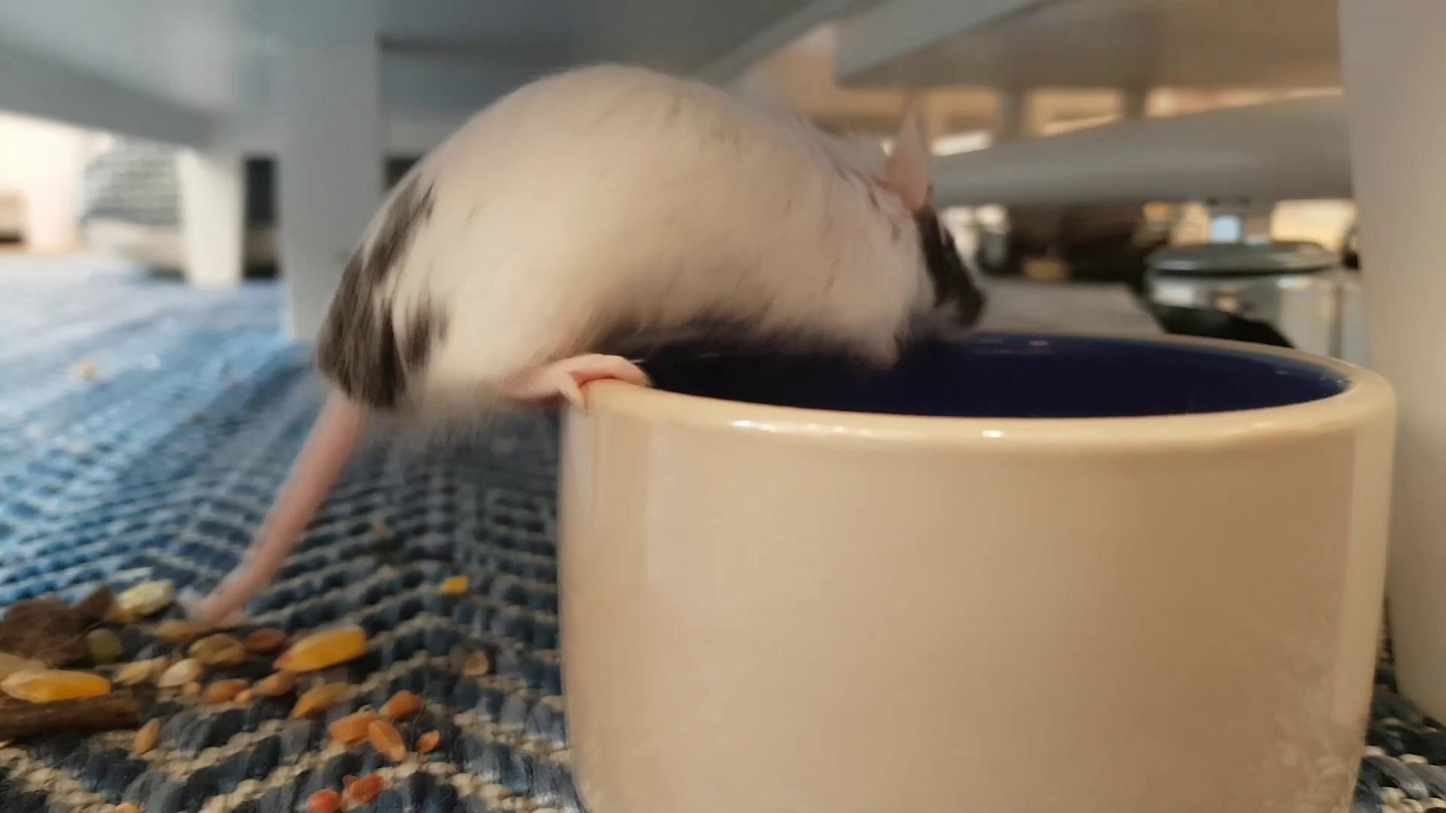rat: (186, 62, 987, 628)
